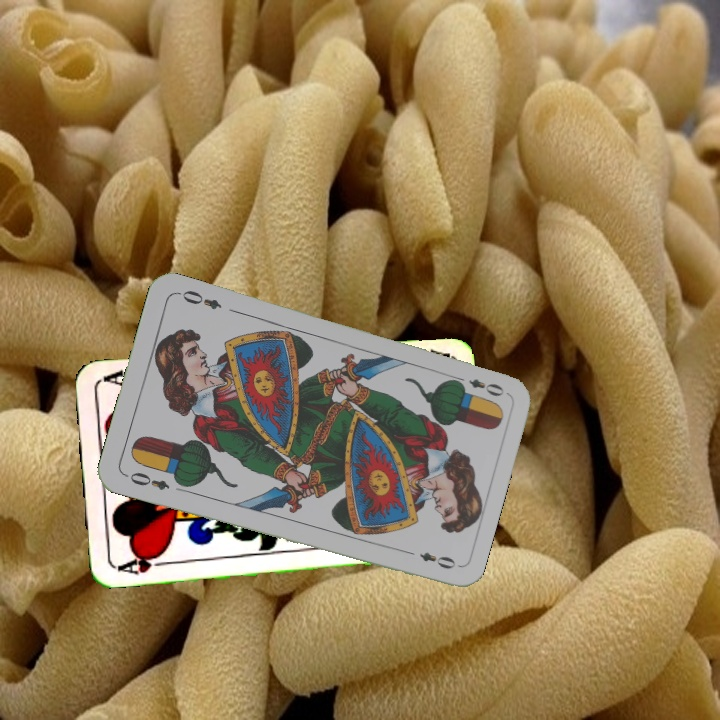EO: (450, 372, 507, 399), (121, 468, 172, 493)
HA: (112, 549, 171, 577)
